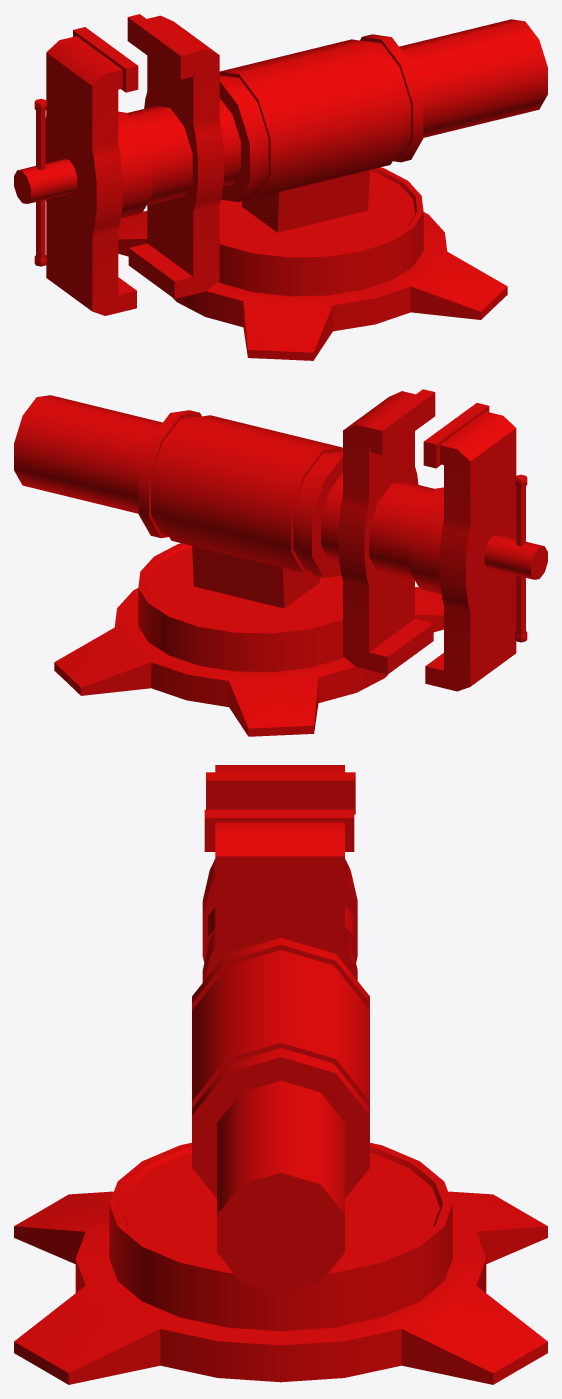
Rendered from Vise.fbx.
3 views of the same model, one above another, from view 1: azimuth 30°, elevation 25°; view 2: azimuth 150°, elevation 25°; view 3: azimuth 270°, elevation 25° (orthographic). The views are drawn at different scales.
Parts seen in each view (by area): view 1: Vise; view 2: Vise; view 3: Vise.
Part boxes in pixels (x1,y1,x2,y2): Vise: (14,14,547,360); Vise: (14,389,547,736); Vise: (14,765,547,1384).
Bounding box in the file's own units: 40.62 × 20.96 × 26.47.
